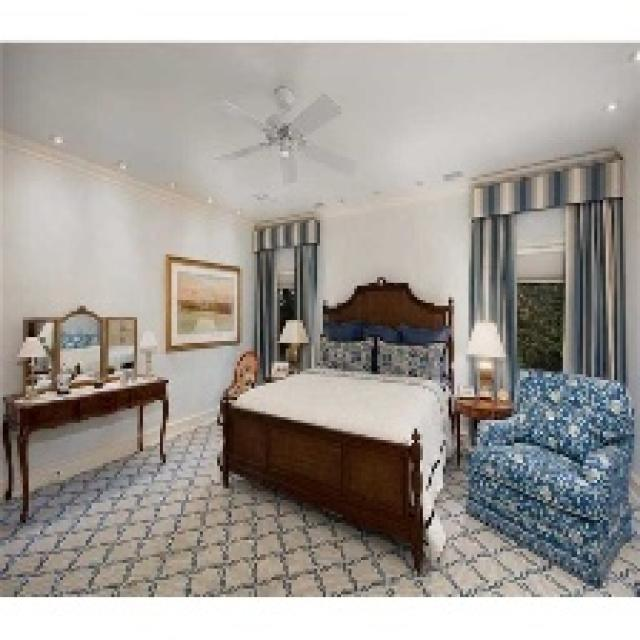Bed: (217, 274, 454, 574)
